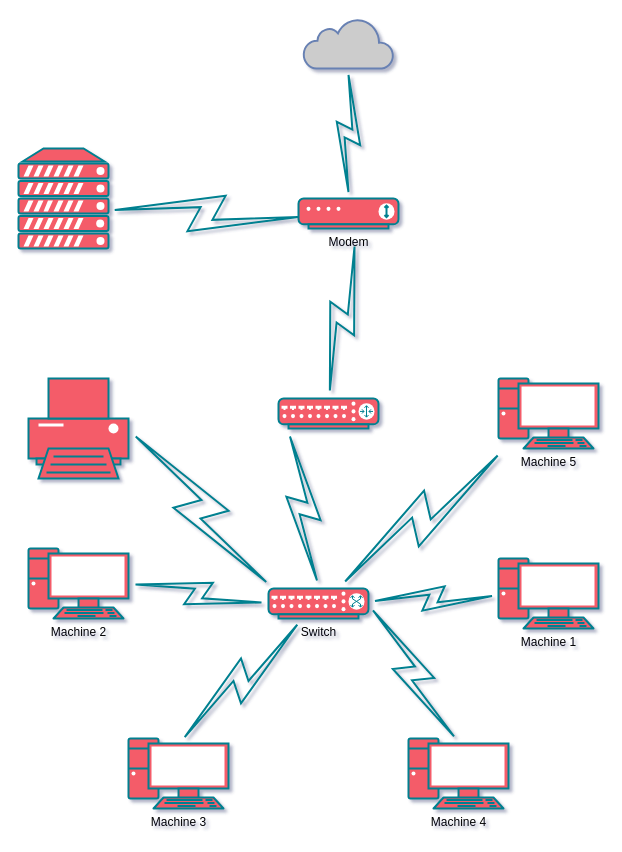
The diagram is 622 pixels wide and 852 high, and some of its shapes have lost their labels. Here are the shapes that lost their labels. From the top down, the centre of each, then its label:
the point at 348,43: Internet
the point at 63,198: Server
the point at 78,428: Printer
the point at 328,413: Router
